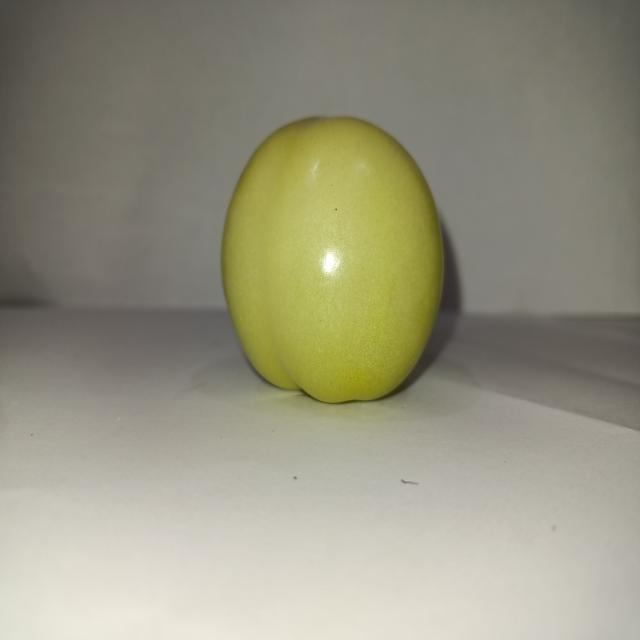Red: (219, 114, 446, 404)
